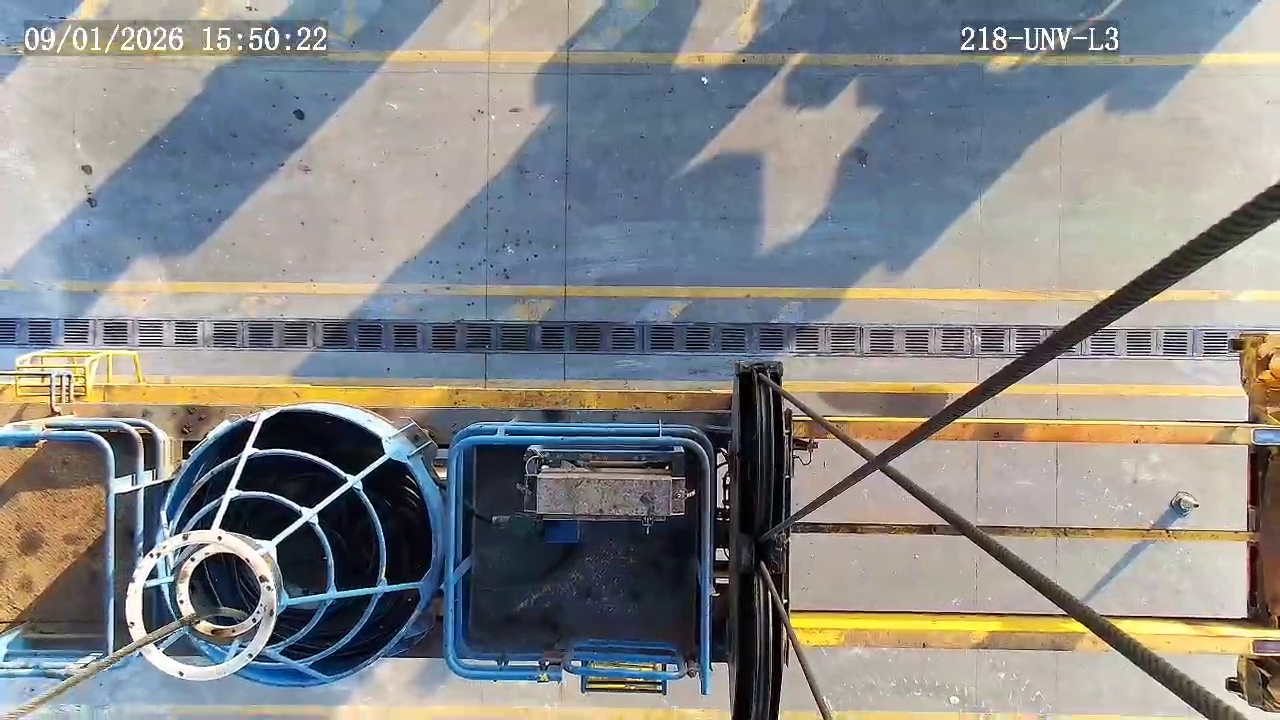right: (153, 406, 436, 689)
